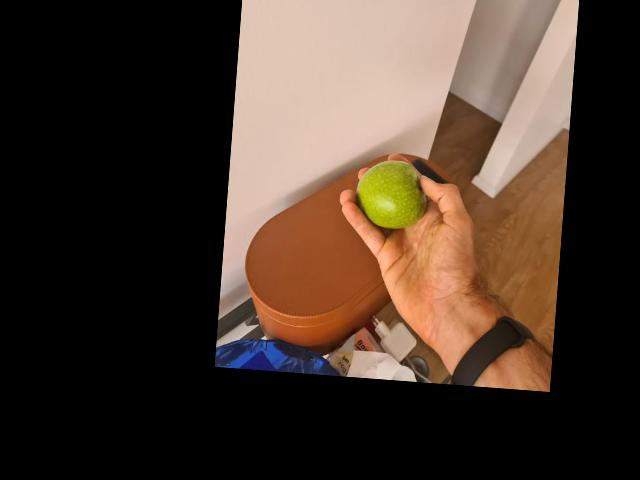apple: (348, 162, 432, 227)
